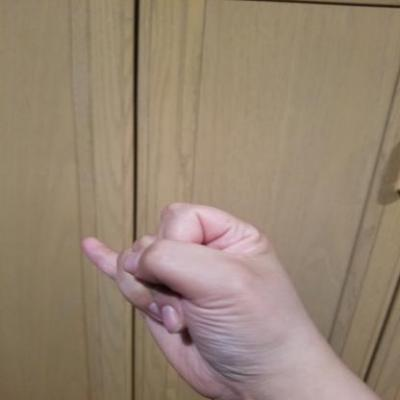hand: (77, 197, 325, 399)
